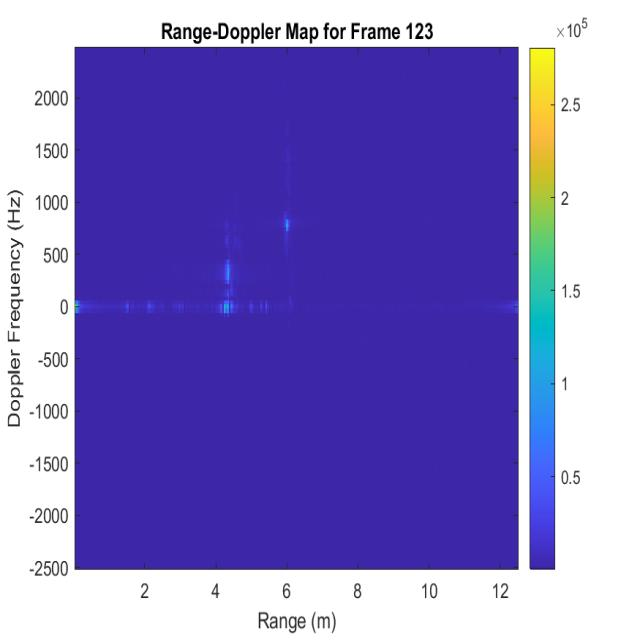target-1: (270, 130, 311, 258)
target-2: (210, 212, 268, 323)
